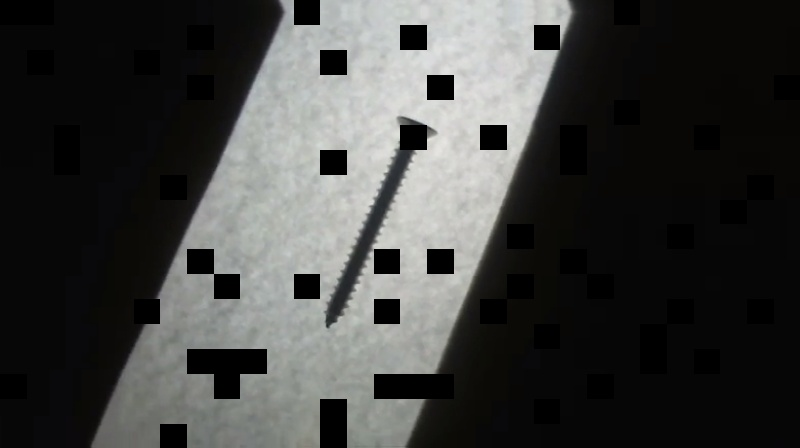S002: (321, 114, 440, 332)
